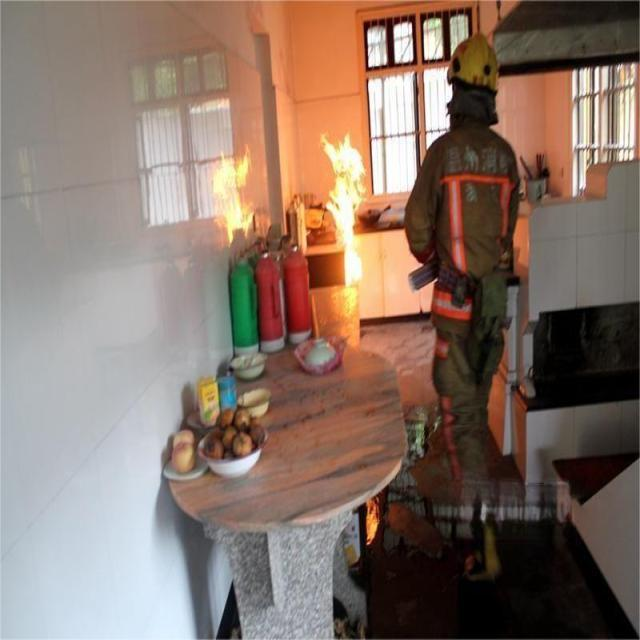Fire: (320, 130, 370, 284)
